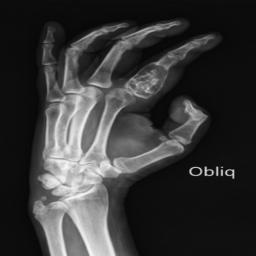cancer: (130, 66, 167, 98)
